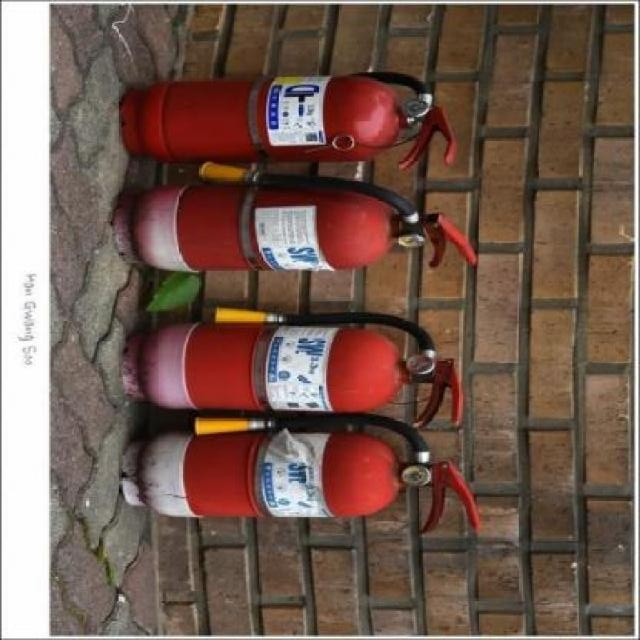fire extinguisher: (122, 413, 482, 535), (120, 306, 463, 429), (115, 161, 477, 274), (120, 72, 457, 172)
